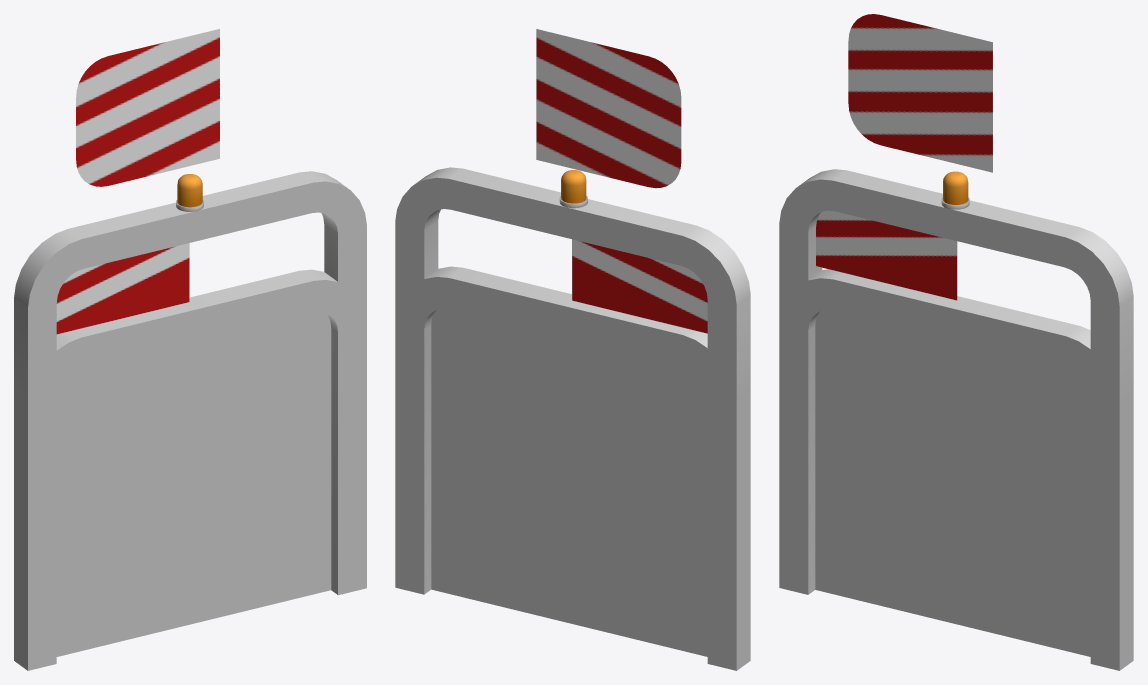
Rendered from baby_boss_buyume_kapi.fbx.
The picture shows the model from 3 angles, left to right: view 1: azimuth 30°, elevation 25°; view 2: azimuth 150°, elevation 25°; view 3: azimuth 330°, elevation 25°; orthographic projection.
Visible parts, largest first — view 1: baby_boss_buyume_kapi_efek, baby_boss_buyume_kapi, baby_boss_buyutme_kapi_icon, baby_boss_buyume_kapi_siren; view 2: baby_boss_buyume_kapi_efek, baby_boss_buyume_kapi, baby_boss_buyutme_kapi_icon, baby_boss_buyume_kapi_siren; view 3: baby_boss_buyume_kapi_efek, baby_boss_buyume_kapi, baby_boss_buyutme_kapi_icon, baby_boss_buyume_kapi_siren.
Boxes of the visible parts, x1,y1,x2,y2 form: baby_boss_buyume_kapi_efek: (56, 311, 331, 656); baby_boss_buyume_kapi: (14, 171, 366, 670); baby_boss_buyutme_kapi_icon: (76, 29, 219, 186); baby_boss_buyume_kapi_siren: (176, 174, 203, 211); baby_boss_buyume_kapi_efek: (431, 308, 707, 656); baby_boss_buyume_kapi: (395, 167, 750, 670); baby_boss_buyutme_kapi_icon: (536, 29, 681, 188); baby_boss_buyume_kapi_siren: (559, 170, 587, 208); baby_boss_buyume_kapi_efek: (815, 309, 1090, 656); baby_boss_buyume_kapi: (779, 169, 1133, 670); baby_boss_buyutme_kapi_icon: (848, 14, 992, 172); baby_boss_buyume_kapi_siren: (941, 171, 969, 209).
Size of the model in its own units: 2.41 by 3.98 by 0.1748.
